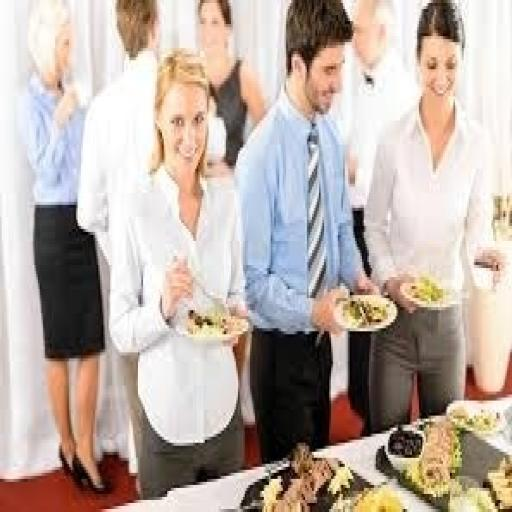eating: (21, 3, 503, 491)
